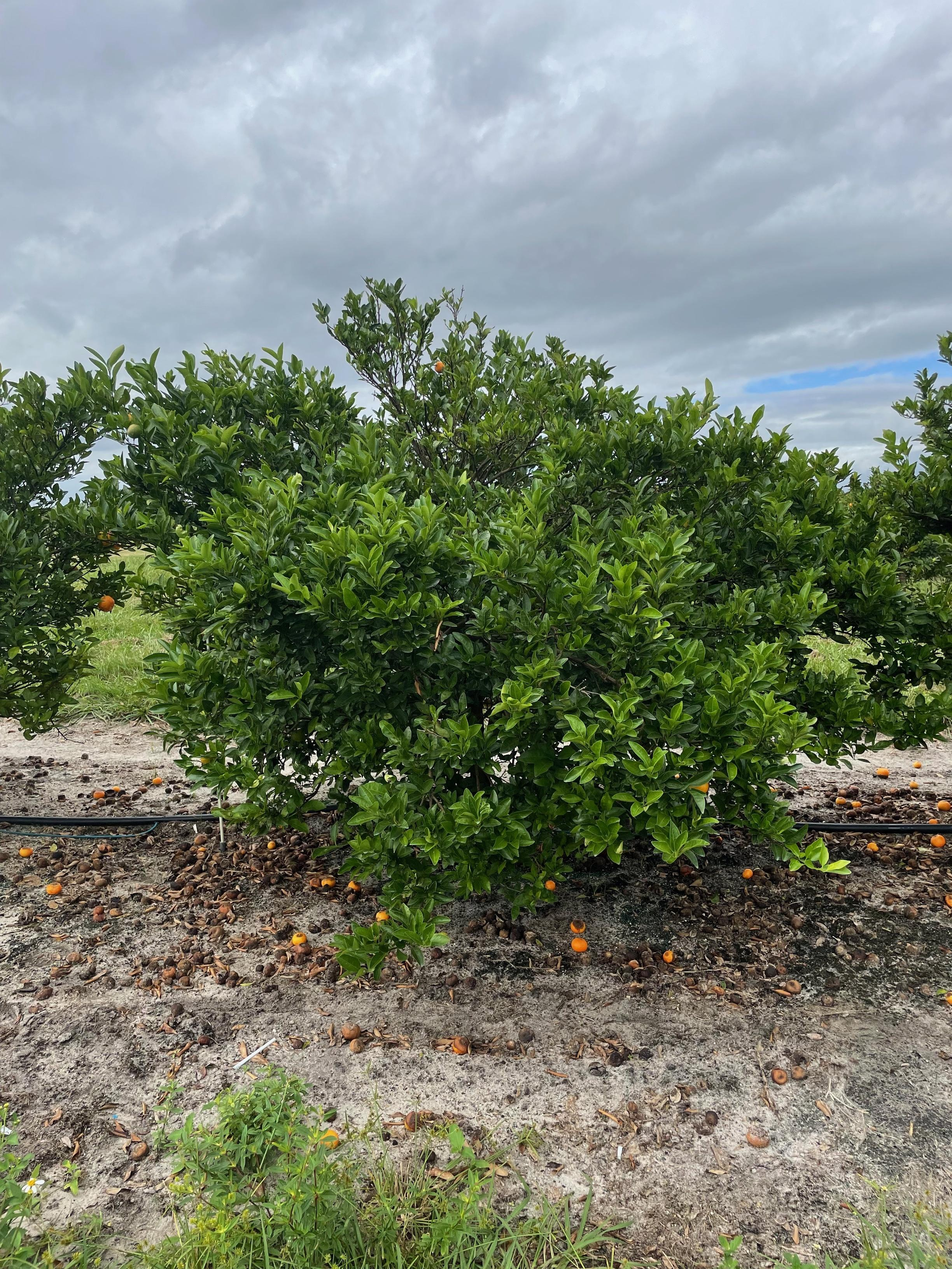fruit_on_ground: (93, 525, 118, 548), (686, 775, 711, 796), (95, 593, 117, 614), (125, 421, 145, 440), (432, 358, 447, 374), (868, 680, 881, 692)
fruit_on_tree: (317, 1126, 342, 1150), (402, 1110, 424, 1131), (450, 1034, 471, 1055), (569, 935, 590, 954), (341, 1020, 362, 1039), (770, 1066, 789, 1085), (346, 1037, 366, 1055), (783, 977, 803, 995), (568, 918, 588, 936), (290, 930, 310, 947), (789, 913, 807, 930), (373, 908, 392, 924), (929, 832, 947, 848), (261, 961, 278, 977), (677, 862, 694, 878), (45, 880, 63, 895), (542, 877, 558, 893), (75, 859, 92, 874), (161, 965, 177, 980), (217, 901, 233, 916), (320, 874, 336, 889), (192, 831, 208, 846), (661, 947, 676, 963), (17, 844, 33, 858), (864, 839, 880, 853), (936, 797, 951, 811), (740, 866, 754, 881), (93, 876, 109, 889), (196, 1033, 212, 1046), (347, 879, 363, 892), (91, 857, 105, 871), (345, 889, 360, 902), (626, 957, 641, 970), (98, 841, 114, 853), (875, 767, 891, 779), (191, 950, 205, 963), (308, 875, 322, 888), (92, 904, 106, 917), (92, 788, 107, 800), (833, 795, 847, 807), (850, 797, 863, 809), (150, 775, 163, 787), (847, 783, 860, 794), (266, 839, 278, 850), (845, 809, 858, 819), (137, 785, 148, 794), (928, 817, 939, 826), (110, 784, 121, 793), (912, 760, 923, 769), (908, 780, 919, 789)
